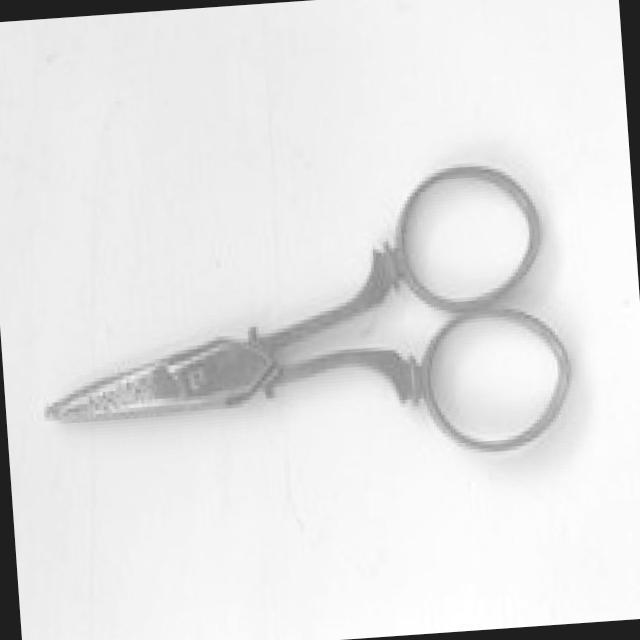scissors: (24, 150, 582, 493)
